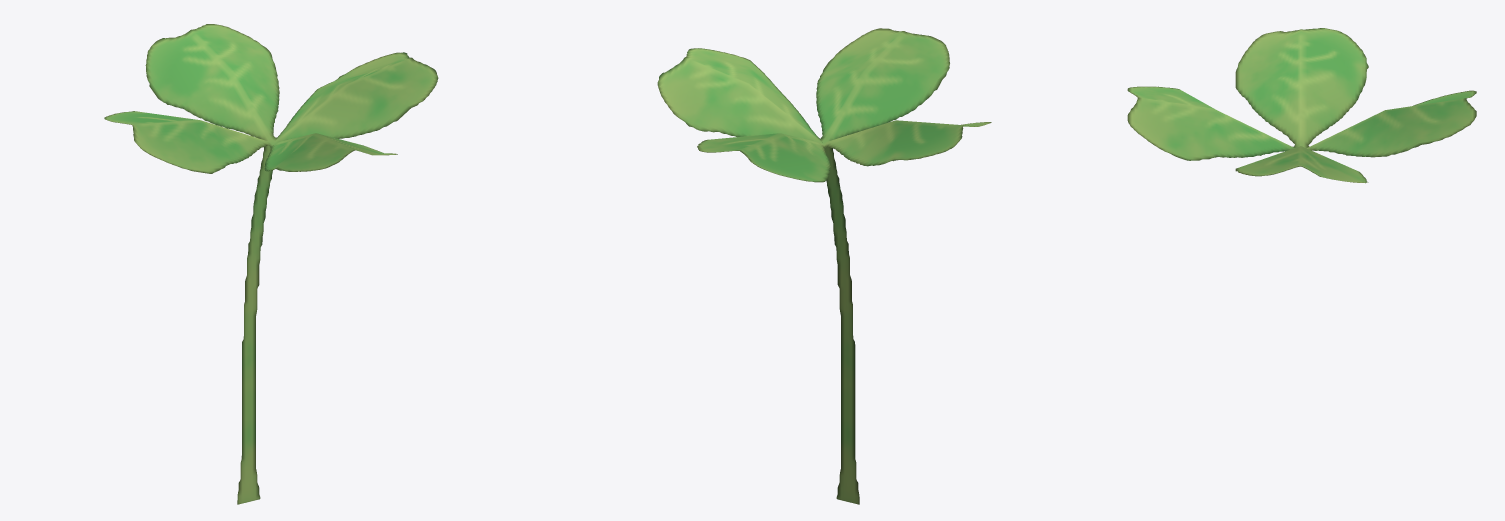
The model's file is LeafSetD_5.fbx.
3 views of the same model, side by side, from view 1: azimuth 30°, elevation 25°; view 2: azimuth 150°, elevation 25°; view 3: azimuth 270°, elevation 25° (orthographic).
Parts seen in each view (by area): view 1: LeafSetD_5; view 2: LeafSetD_5; view 3: LeafSetD_5.
Boxes of the visible parts, x1,y1,x2,y2 form: LeafSetD_5: (104, 24, 438, 504); LeafSetD_5: (657, 28, 991, 504); LeafSetD_5: (1127, 28, 1476, 183).
Bounding box in the file's own units: 0.222 × 0.2631 × 0.2213.
